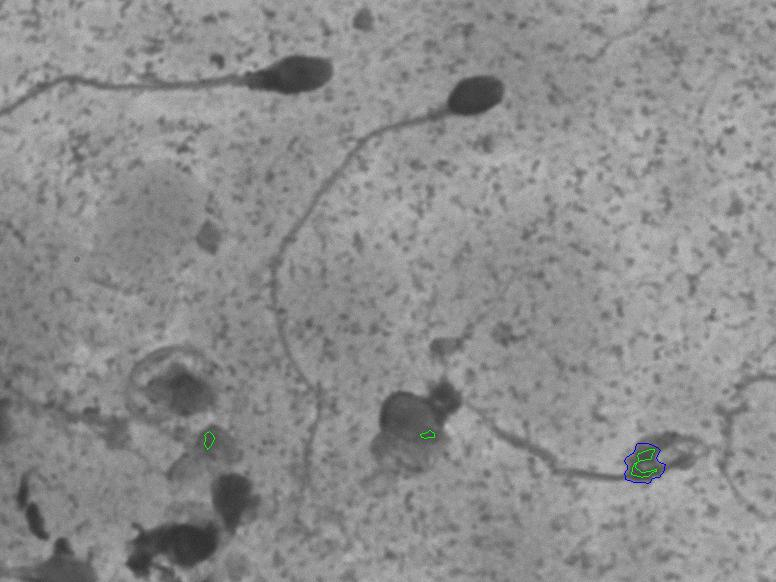Abnormal: (30, 40, 338, 116)
Normal: (252, 66, 517, 505)
